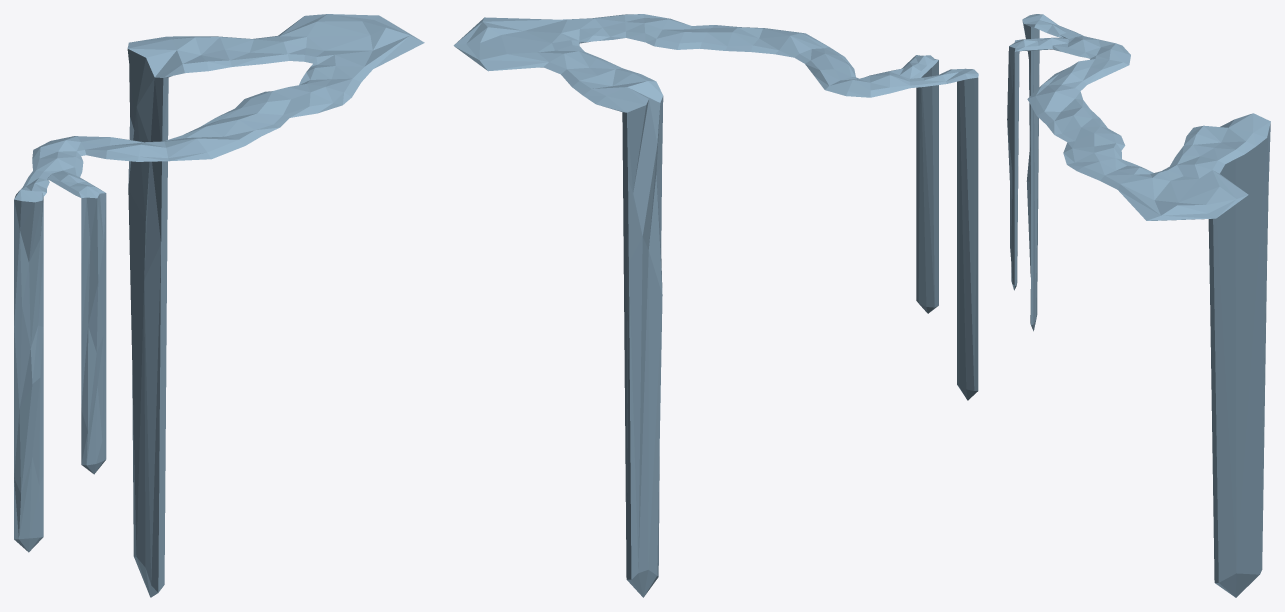
Rendered from water01.fbx.
3 views of the same model, side by side, from view 1: azimuth 30°, elevation 25°; view 2: azimuth 150°, elevation 25°; view 3: azimuth 270°, elevation 25° (orthographic). The views are drawn at different scales.
Visible parts, largest first — view 1: pCylinder7; view 2: pCylinder7; view 3: pCylinder7.
Part boxes in pixels (x1,y1,x2,y2): pCylinder7: (14,14,424,597); pCylinder7: (453,14,978,597); pCylinder7: (1007,14,1270,597).
Bounding box in the file's own units: 0.8647 × 0.9575 × 0.4747.
